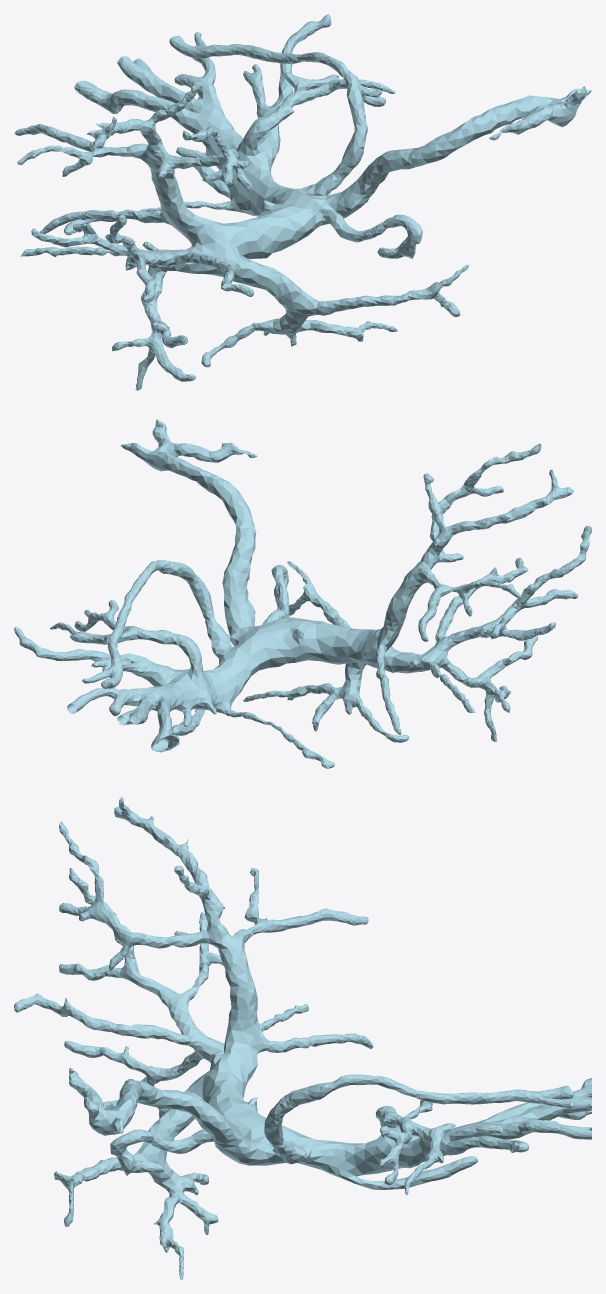
Rendered from portalvein.obj.
3 views of the same model, one above another, from view 1: azimuth 30°, elevation 25°; view 2: azimuth 150°, elevation 25°; view 3: azimuth 270°, elevation 25° (orthographic). The views are drawn at different scales.
Visible parts, largest first — view 1: grp1; view 2: grp1; view 3: grp1.
Boxes of the visible parts, box(x1,y1,x2,y2) form: grp1: box(14, 14, 591, 390); grp1: box(14, 419, 591, 768); grp1: box(14, 797, 591, 1279).
Size of the model in its own units: 200 by 115 by 185.
